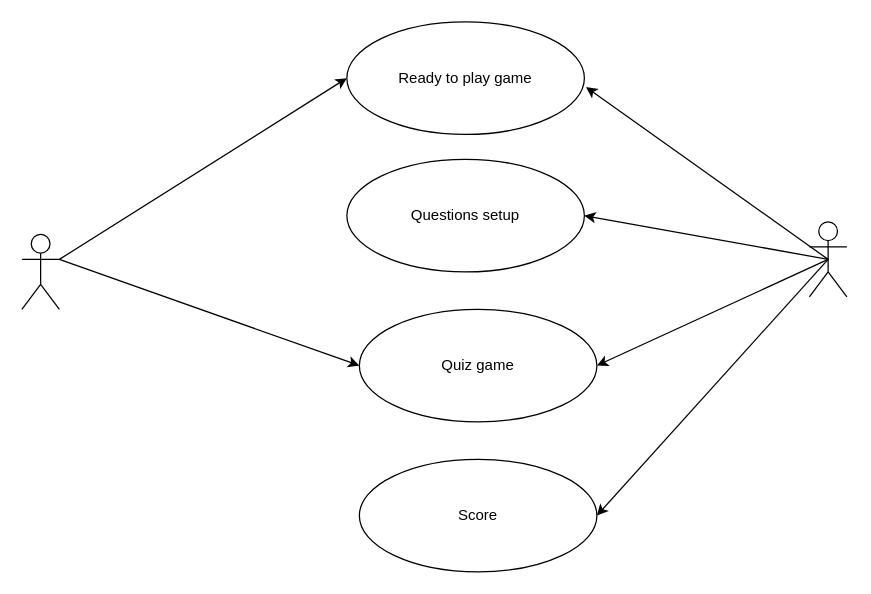
This 871x594 diagram has some shape labels left out. The shapes that lost their labels are listed below. From the top down, each one's box as (x1, y1, x2, y2) in pixels, then its label:
(21, 233, 59, 309): User
(808, 221, 847, 297): Admin
